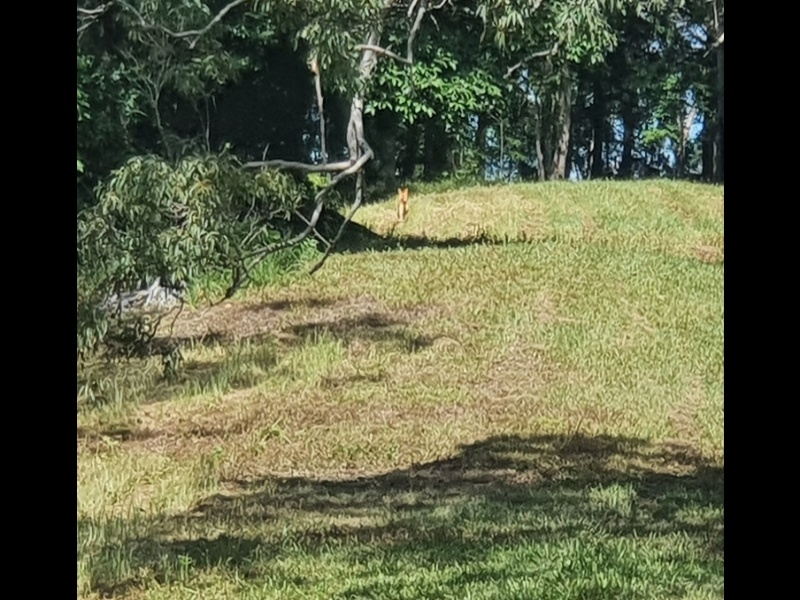dog: (395, 184, 411, 230)
